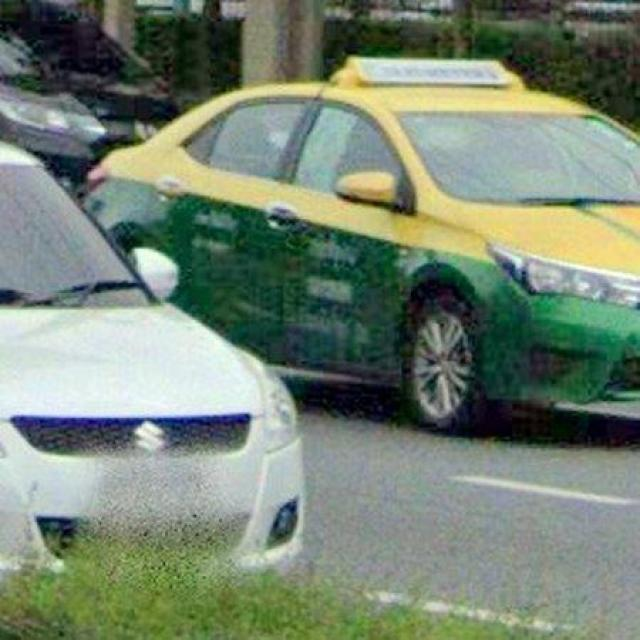Taxi: (85, 57, 640, 436)
